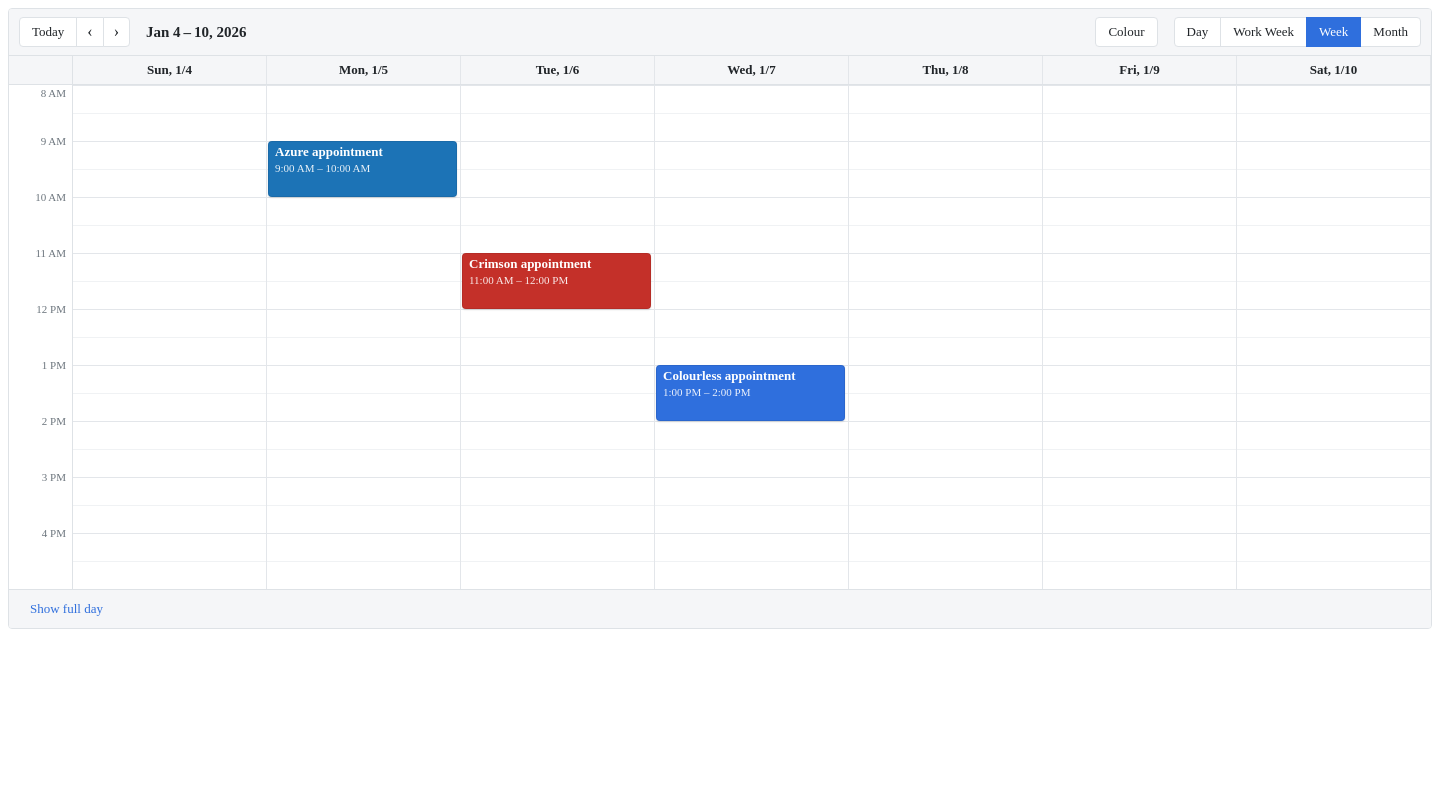
Test: filtering › offers a colour for each one in use, plus a group for the uncoloured
Click the button "Colour": (1126, 32) [1095,17,1158,47]
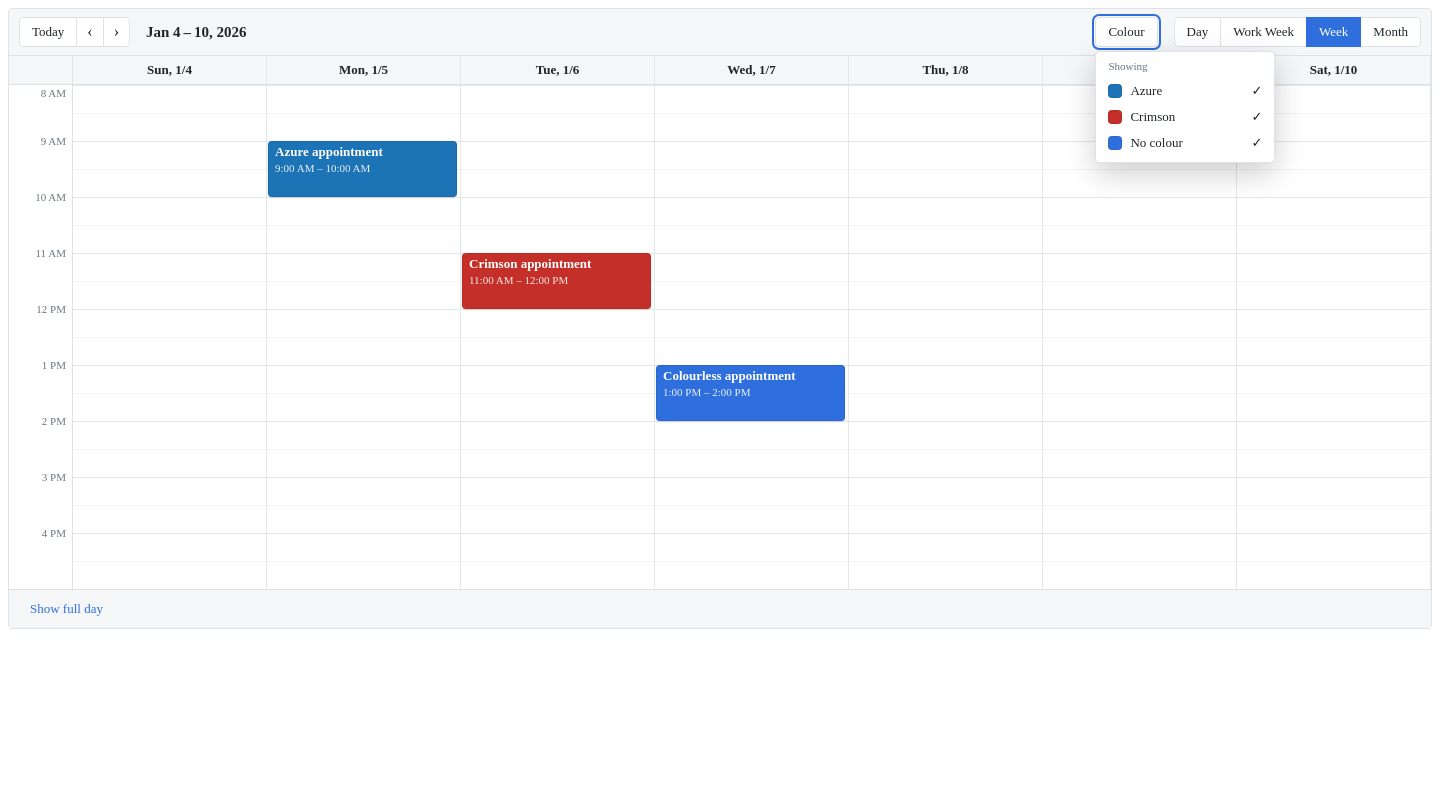
Check: the button "Azure ✓" is shown, box [1102,78,1268,104]
Check: the button "Crimson ✓" is shown, box [1102,104,1268,130]
Check: the button "No colour ✓" is shown, box [1102,130,1268,156]
